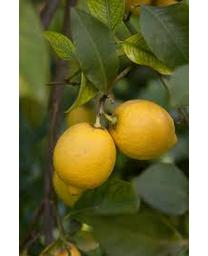lemon: (53, 124, 117, 195), (111, 98, 178, 161)
